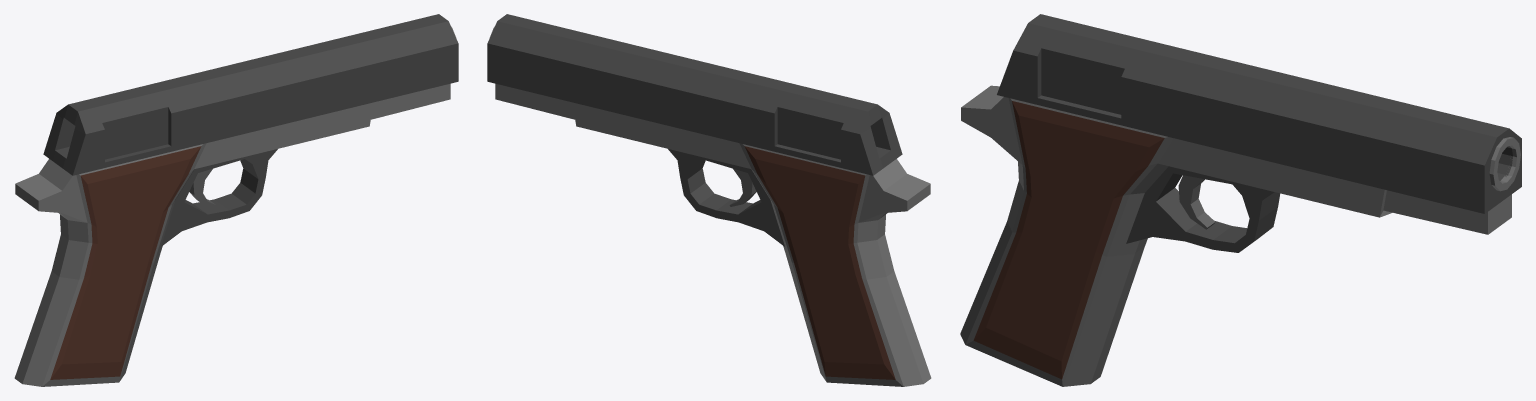
Rendered from WW1 Hangun 1.fbx.
The picture shows the model from 3 angles, left to right: view 1: azimuth 30°, elevation 25°; view 2: azimuth 150°, elevation 25°; view 3: azimuth 330°, elevation 25°; orthographic projection. The views are drawn at different scales.
Visible parts, largest first — view 1: WW1 Hangun 1, Trigger; view 2: WW1 Hangun 1, Trigger; view 3: WW1 Hangun 1, Trigger.
Boxes of the visible parts, left/top/right/bottom form: WW1 Hangun 1: left=14, top=14, right=458, bottom=386; Trigger: left=189, top=168, right=216, bottom=206; WW1 Hangun 1: left=487, top=14, right=931, bottom=386; Trigger: left=729, top=168, right=756, bottom=206; WW1 Hangun 1: left=960, top=14, right=1521, bottom=386; Trigger: left=1178, top=175, right=1215, bottom=229.
Size of the model in its own units: 210 by 128 by 24.85.
